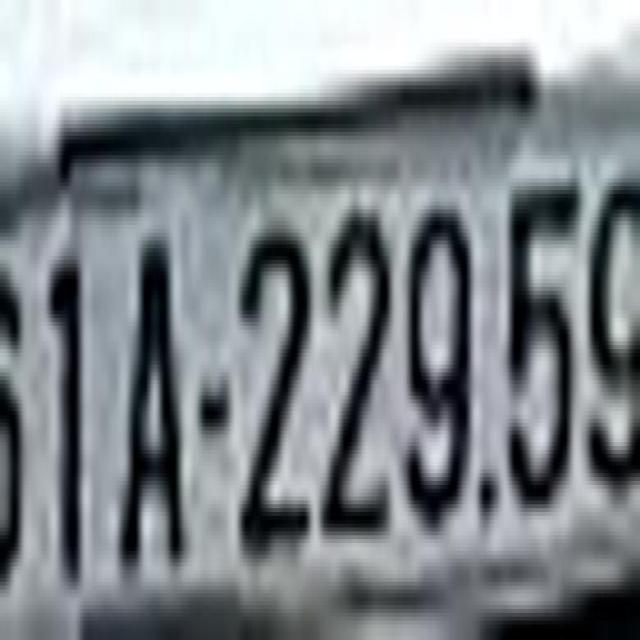1: (44, 221, 94, 605)
2: (237, 194, 314, 558), (322, 186, 394, 566)
5: (504, 148, 583, 540)
6: (1, 244, 24, 620)
9: (402, 167, 473, 547), (584, 151, 640, 524)
A: (117, 210, 187, 594)
